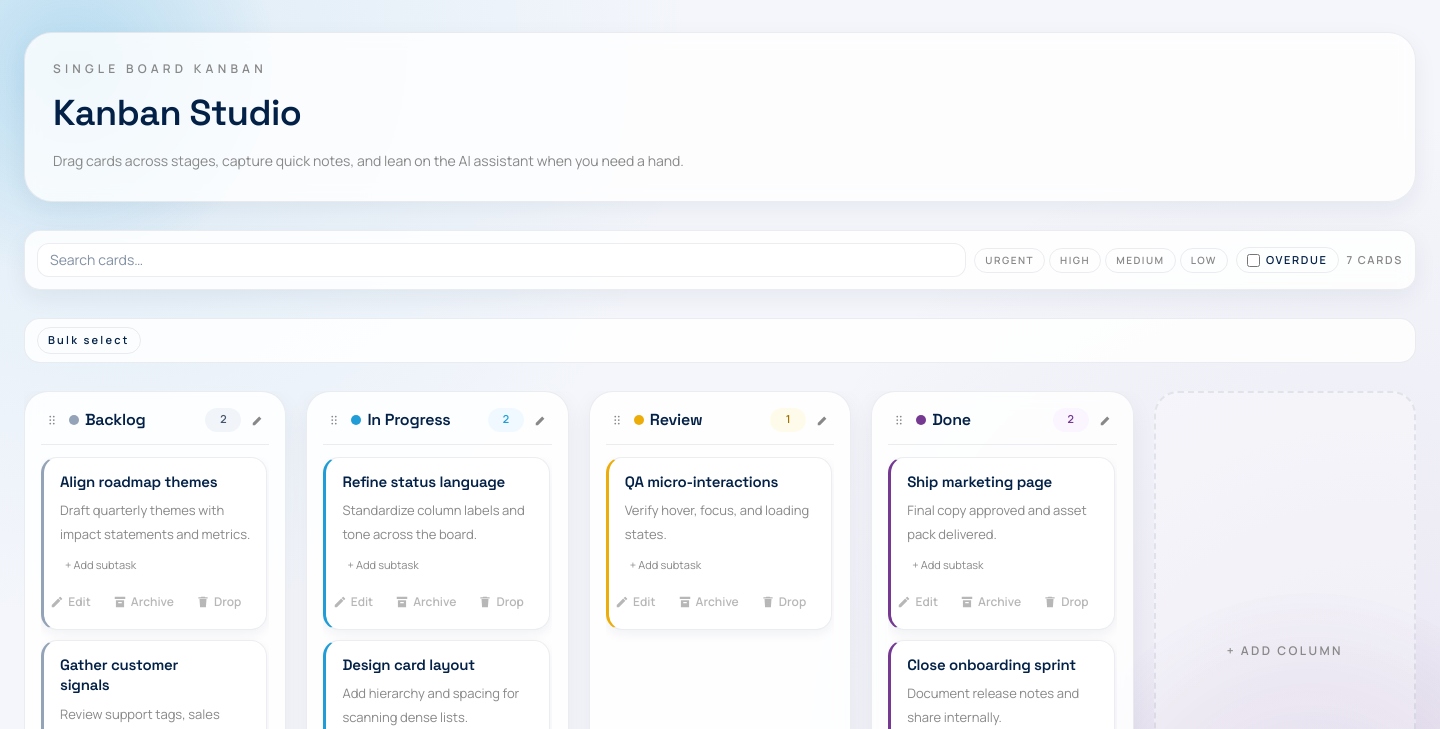
Test: KanbanBoard › edits an existing card
The image size is (1440, 729).
Click the button with aria-label "edit align roadmap themes": x=71, y=602 [41,589,100,615]
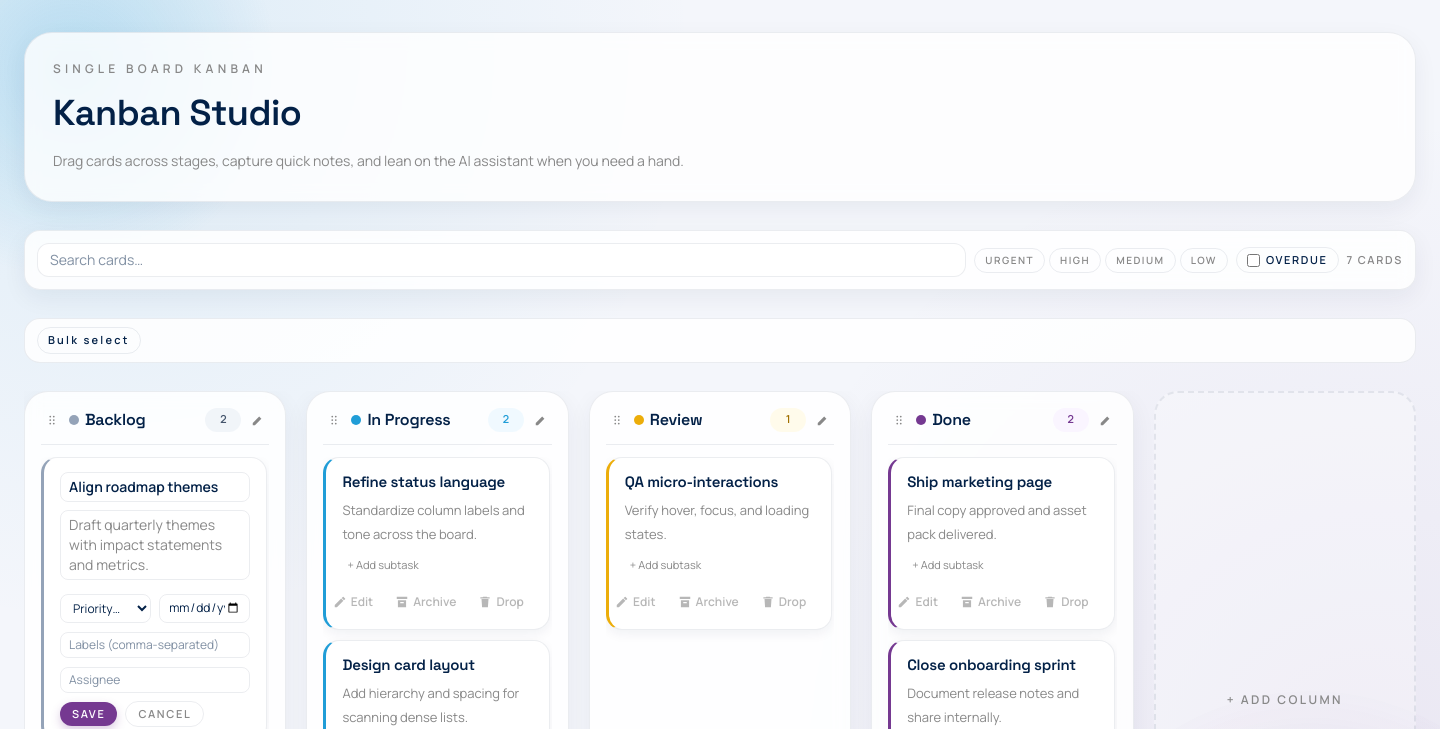
Replace the text in the field named "edit title for align roadmap themes" with "Updated roadmap title": x=155, y=486 [60,472,250,502]
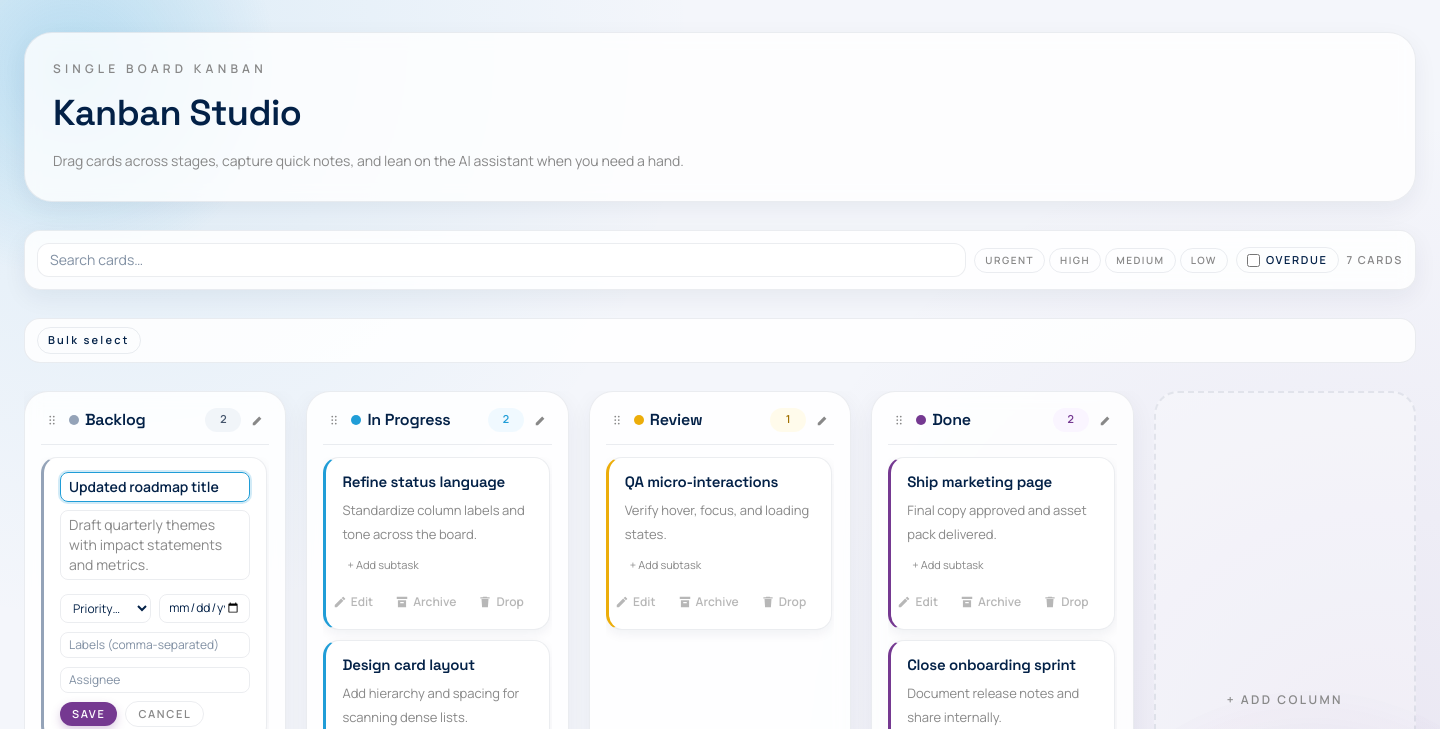
Replace the text in the text box named "edit details for align roadmap themes" with "Updated roadmap details": x=155, y=544 [60,510,250,580]
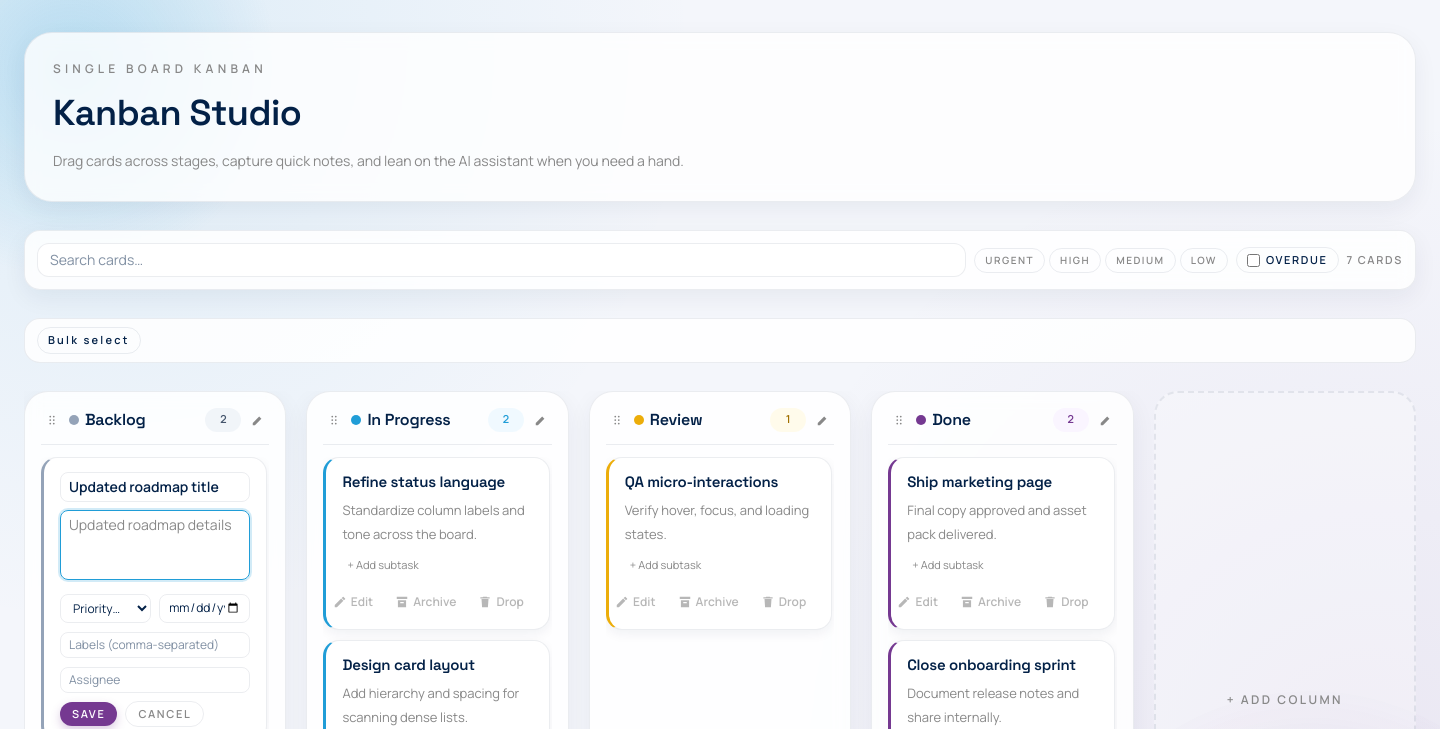
Click the button "Save": x=89, y=714 [60,702,118,726]
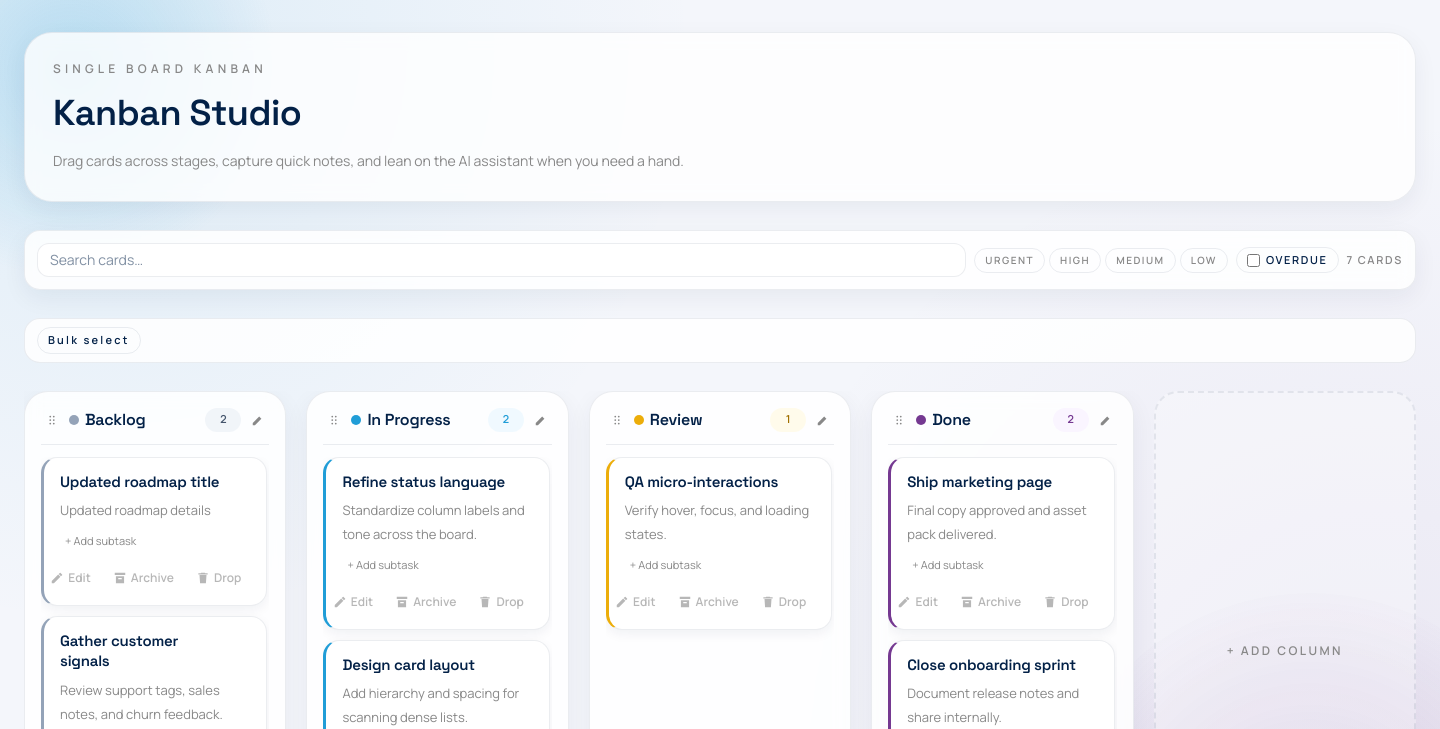
Now the button "Updated roadmap title" is shown, box [60,472,219,492]
Now the text "Updated roadmap details" is shown, box [60,501,211,519]
